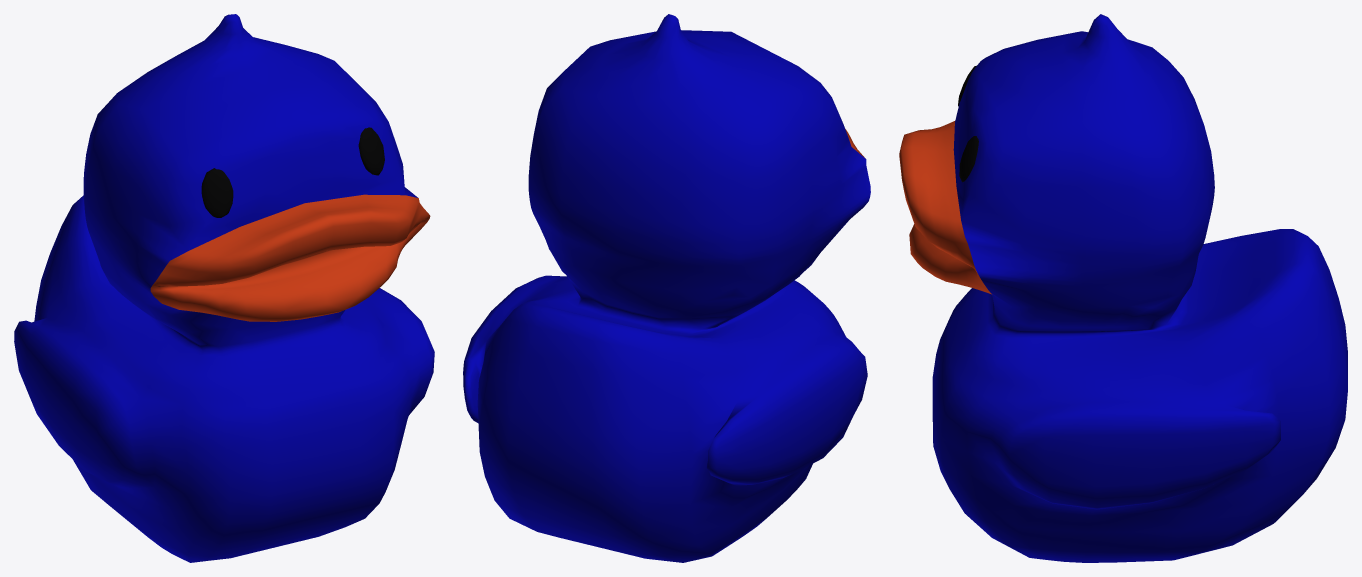
The model's file is Blue_Duckie.FBX.
The picture shows the model from 3 angles, left to right: view 1: azimuth 30°, elevation 25°; view 2: azimuth 150°, elevation 25°; view 3: azimuth 270°, elevation 25°; orthographic projection. The views are drawn at different scales.
Visible parts, largest first — view 1: duckie, duckie_mouth, eye_left, eye_right; view 2: duckie; view 3: duckie, duckie_mouth, eye_right.
Part boxes in pixels (x1=…): duckie: x1=14, y1=14, x2=434, y2=562; duckie_mouth: x1=150, y1=194, x2=430, y2=321; eye_left: x1=201, y1=168, x2=233, y2=217; eye_right: x1=358, y1=127, x2=384, y2=175; duckie: x1=463, y1=14, x2=870, y2=562; duckie: x1=932, y1=14, x2=1347, y2=562; duckie_mouth: x1=899, y1=121, x2=991, y2=294; eye_right: x1=959, y1=136, x2=978, y2=182.
Size of the model in its own units: 3.95 by 5.85 by 4.62.
